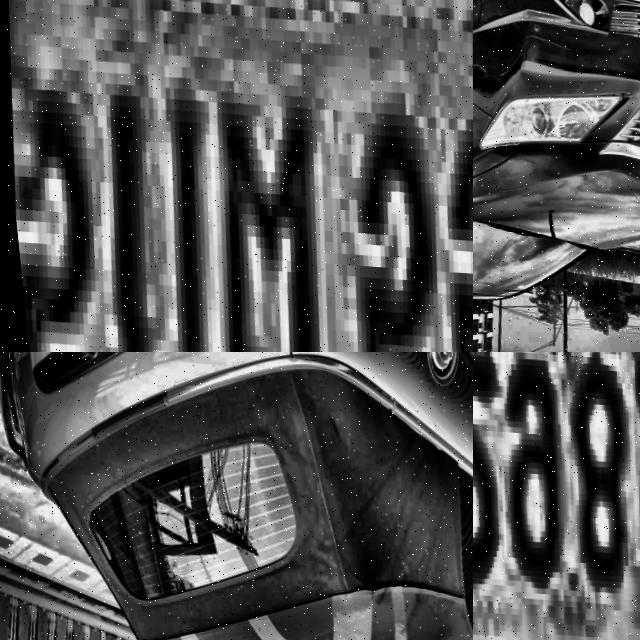license-plate: (0, 0, 473, 352), (473, 352, 640, 640)
